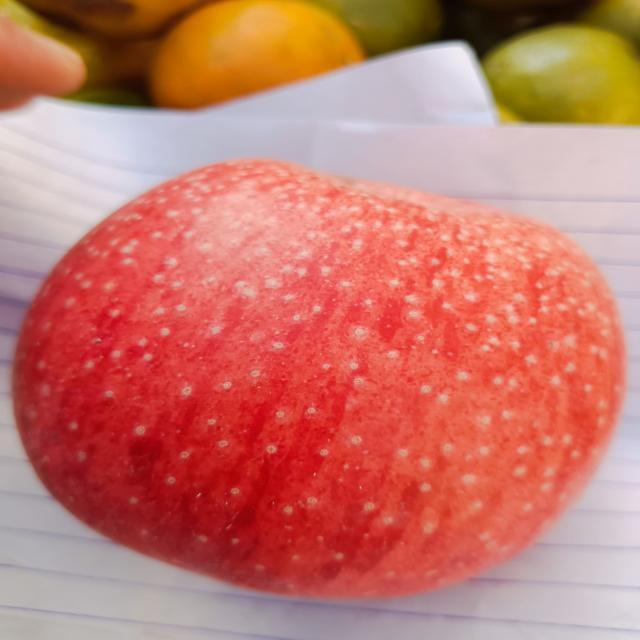Fresh Apple: (9, 163, 619, 596)
